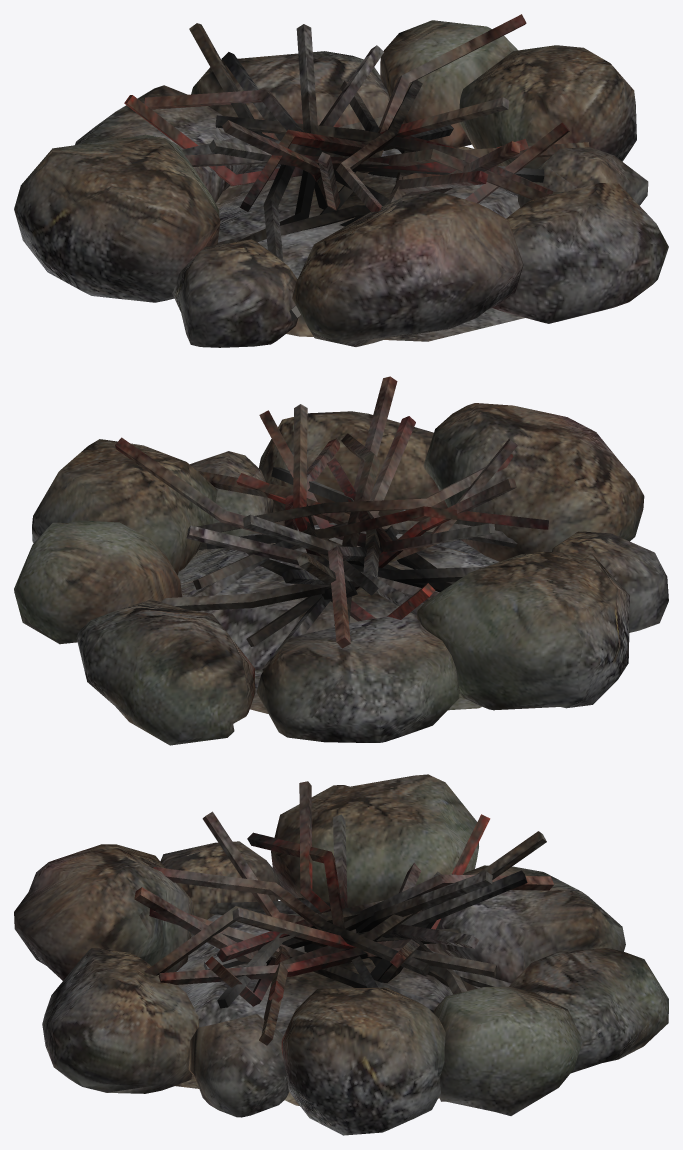
File: campfire.FBX
3 renders of one model, top to bottom at view 1: azimuth 30°, elevation 25°; view 2: azimuth 150°, elevation 25°; view 3: azimuth 270°, elevation 25°, orthographic.
Visible parts, largest first — view 1: Campfire; view 2: Campfire; view 3: Campfire.
Part boxes in pixels (x1,y1,x2,y2): Campfire: (14,14,668,347); Campfire: (14,376,668,745); Campfire: (14,774,668,1135).
Bounding box in the file's own units: 95.17 × 27.45 × 94.06.
Materials: 1 (1 with a texture image).
